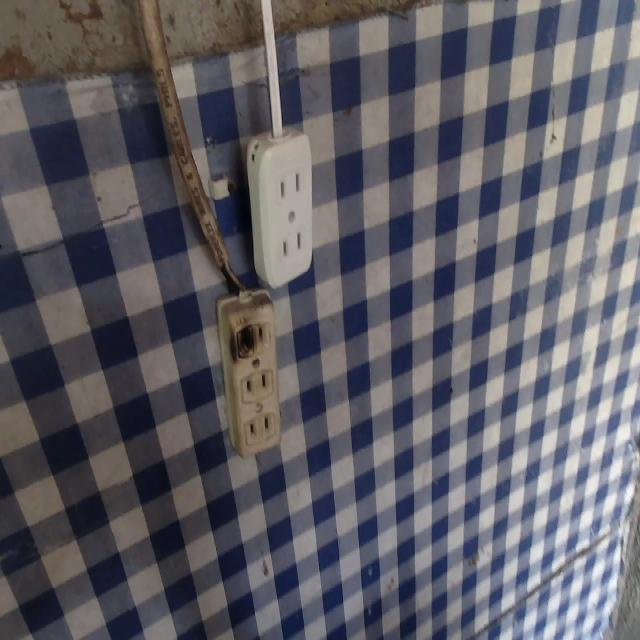-: (223, 316, 257, 367)
